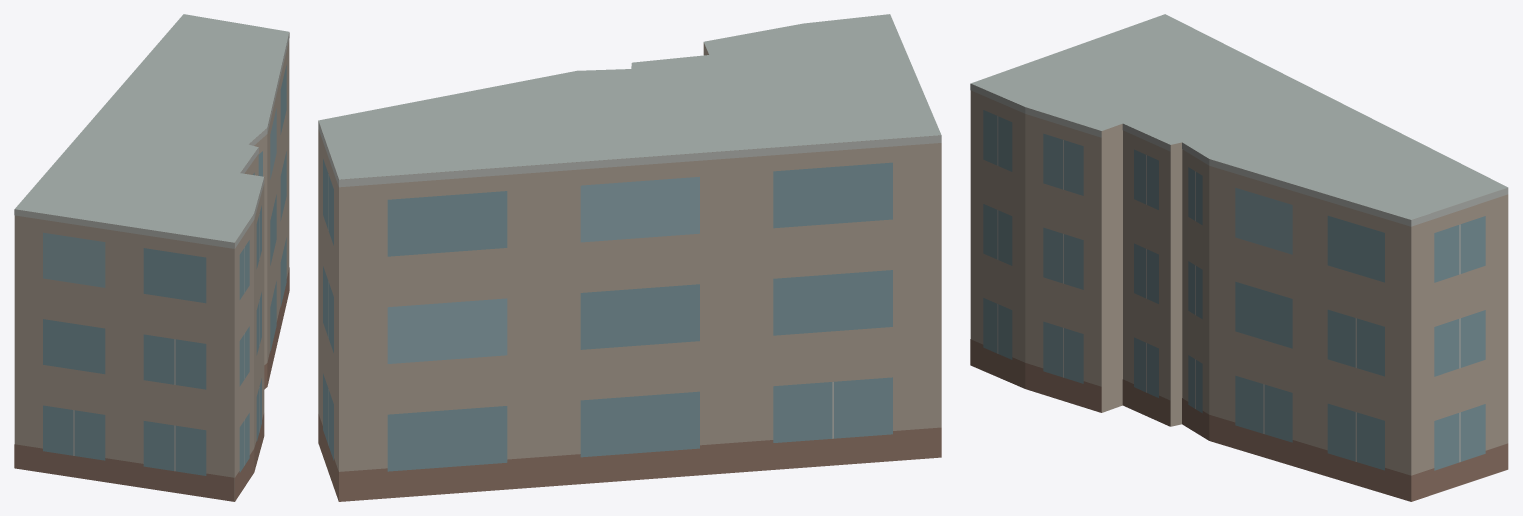
File: survey-upis-32885682.glb
The picture shows the model from 3 angles, left to right: view 1: azimuth 30°, elevation 25°; view 2: azimuth 150°, elevation 25°; view 3: azimuth 270°, elevation 25°; orthographic projection. The views are drawn at different scales.
Parts seen in each view (by area): view 1: survey-upis-32885682.tmp; view 2: survey-upis-32885682.tmp; view 3: survey-upis-32885682.tmp.
Boxes of the visible parts, x1,y1,x2,y2 form: survey-upis-32885682.tmp: (14,14,289,501); survey-upis-32885682.tmp: (318,14,941,501); survey-upis-32885682.tmp: (970,14,1508,501).
Size of the model in its own units: 15.99 by 10.2 by 17.64.
